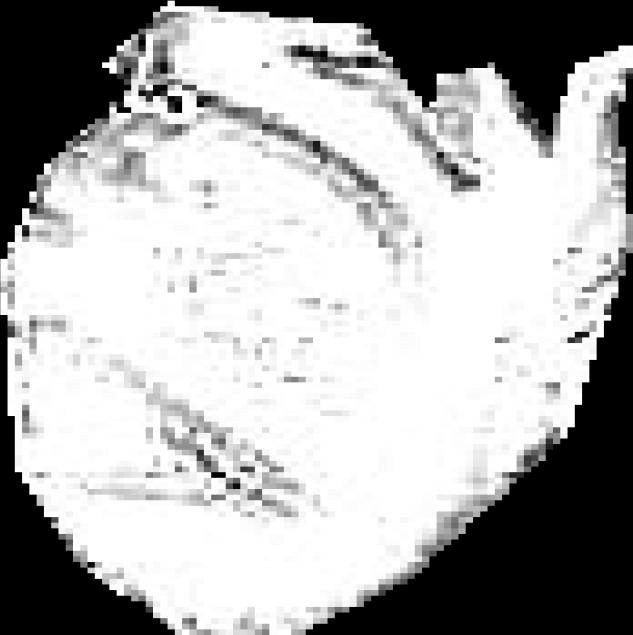tumor_moderate_chance: (0, 1, 633, 635)
